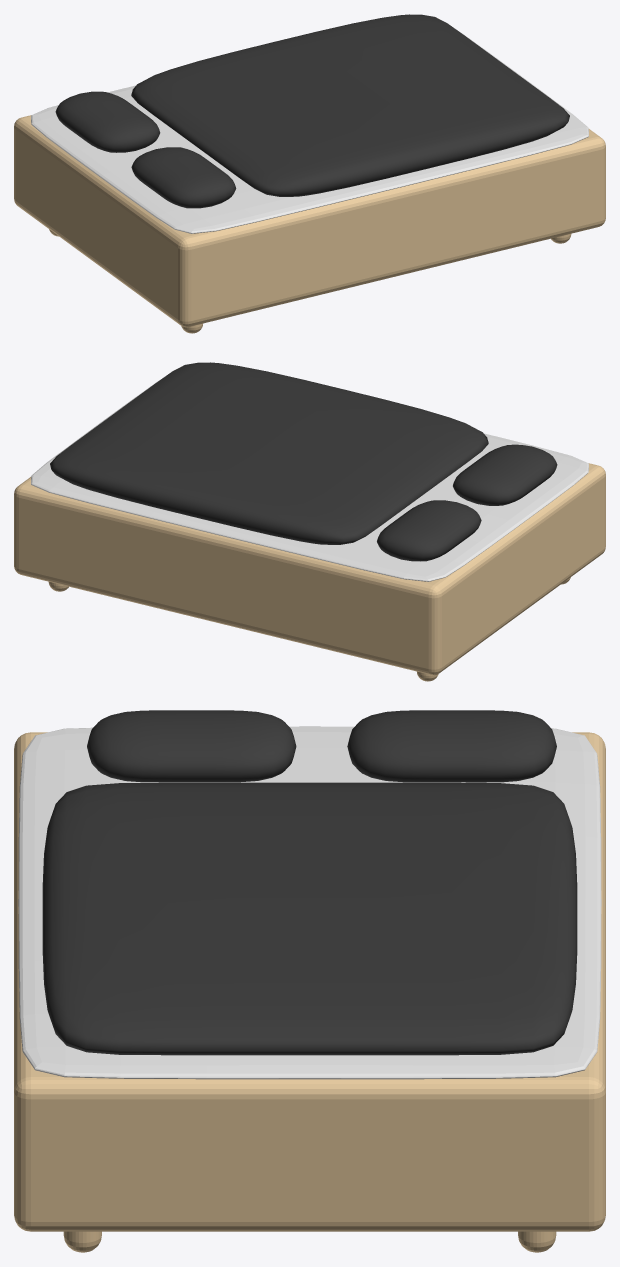
Rendered from Bed.fbx.
The picture shows the model from 3 angles, top to bottom: view 1: azimuth 30°, elevation 25°; view 2: azimuth 150°, elevation 25°; view 3: azimuth 270°, elevation 25°; orthographic projection. The views are drawn at different scales.
Parts seen in each view (by area): view 1: Cube, Cube.003, Cube.004, Cube.002, Cube.001; view 2: Cube, Cube.003, Cube.004, Cube.001, Cube.002; view 3: Cube.003, Cube, Cube.004, Cube.001, Cube.002.
Part boxes in pixels (left/top/right/bottom): Cube: left=14, top=18, right=605, bottom=333; Cube.003: left=131, top=14, right=569, bottom=196; Cube.004: left=31, top=32, right=588, bottom=233; Cube.002: left=131, top=147, right=236, bottom=208; Cube.001: left=55, top=91, right=160, bottom=152; Cube: left=14, top=366, right=605, bottom=681; Cube.003: left=50, top=362, right=488, bottom=544; Cube.004: left=31, top=380, right=588, bottom=581; Cube.001: left=377, top=500, right=481, bottom=561; Cube.002: left=453, top=444, right=557, bottom=505; Cube.003: left=42, top=782, right=577, bottom=1055; Cube: left=14, top=732, right=605, bottom=1252; Cube.004: left=18, top=726, right=601, bottom=1079; Cube.001: left=347, top=710, right=556, bottom=782; Cube.002: left=87, top=710, right=296, bottom=782.
Bounding box in the file's own units: 200 × 61.86 × 140.
